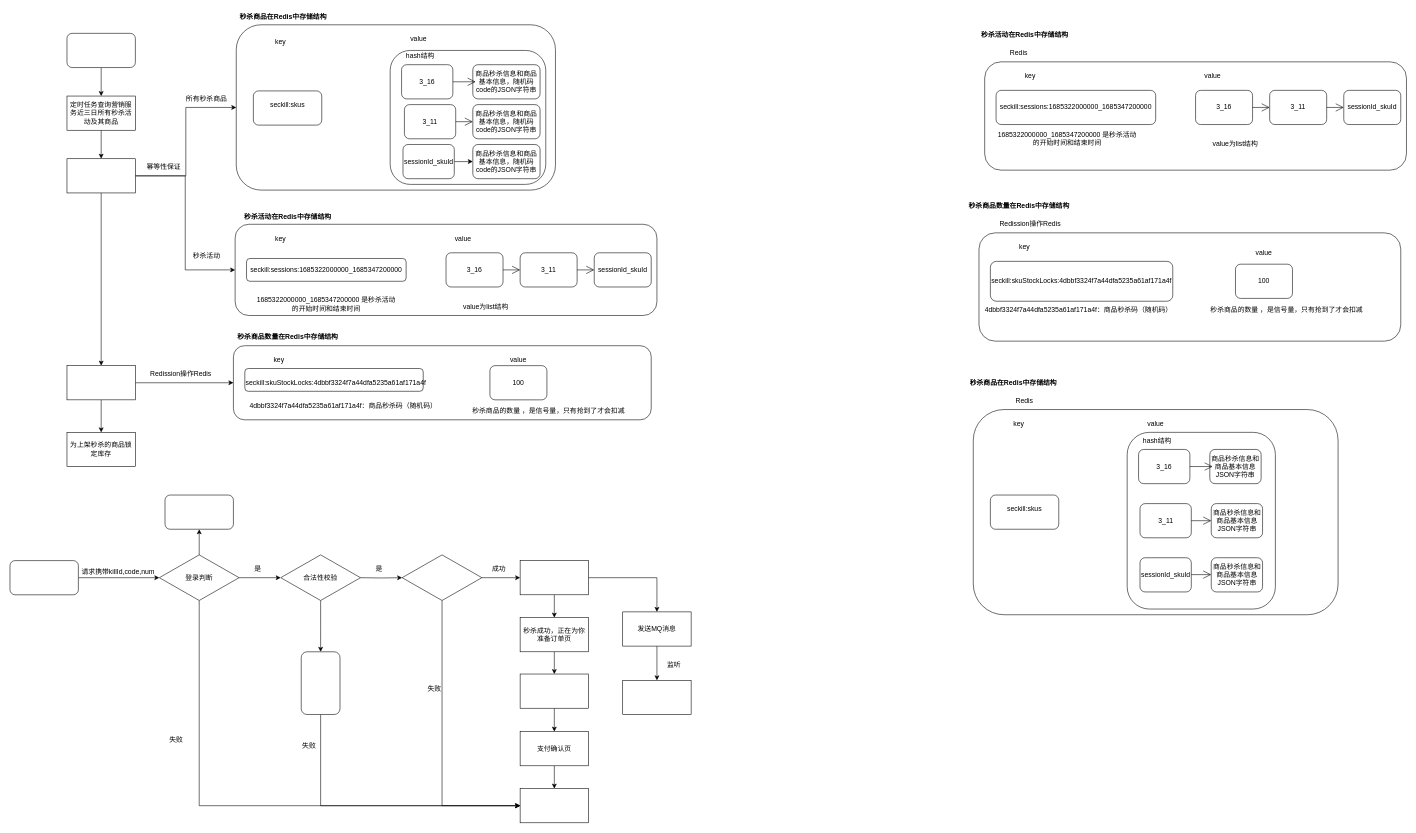
Image size: 1416x833. Some labels were removed from this diagram. Each missing label, with the centre of its shape:
"在拦截器中，使用cookie去查询用户，并放到threadlocal中" belongs at [198,511].
"封装最新的秒杀信息存放到Redis中" belongs at [100,175].
"快速创建秒杀订单，直接返回一个订单id" belongs at [554,577].
"收获地址确认页" belongs at [554,690].
"秒杀" belongs at [43,577].
"秒杀商品定时上架" belongs at [100,50].
"秒杀时间 随机码 幂等性 对应关系" belongs at [320,682].
"结束" belongs at [554,805].
"获取信号量" belongs at [442,577].
"订单服务" belongs at [656,697].
"设置秒杀商品分布式信号量作为库存扣减信息" belongs at [100,382].
